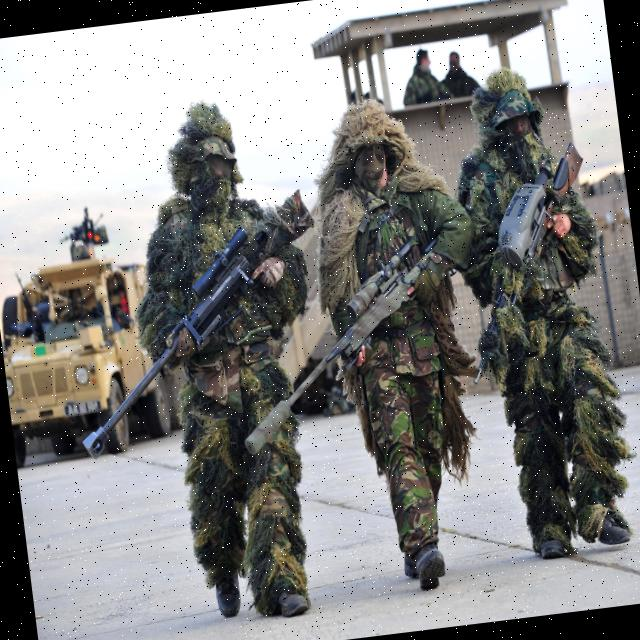Sniper: (41, 171, 336, 481), (227, 212, 468, 474), (442, 137, 602, 401)
